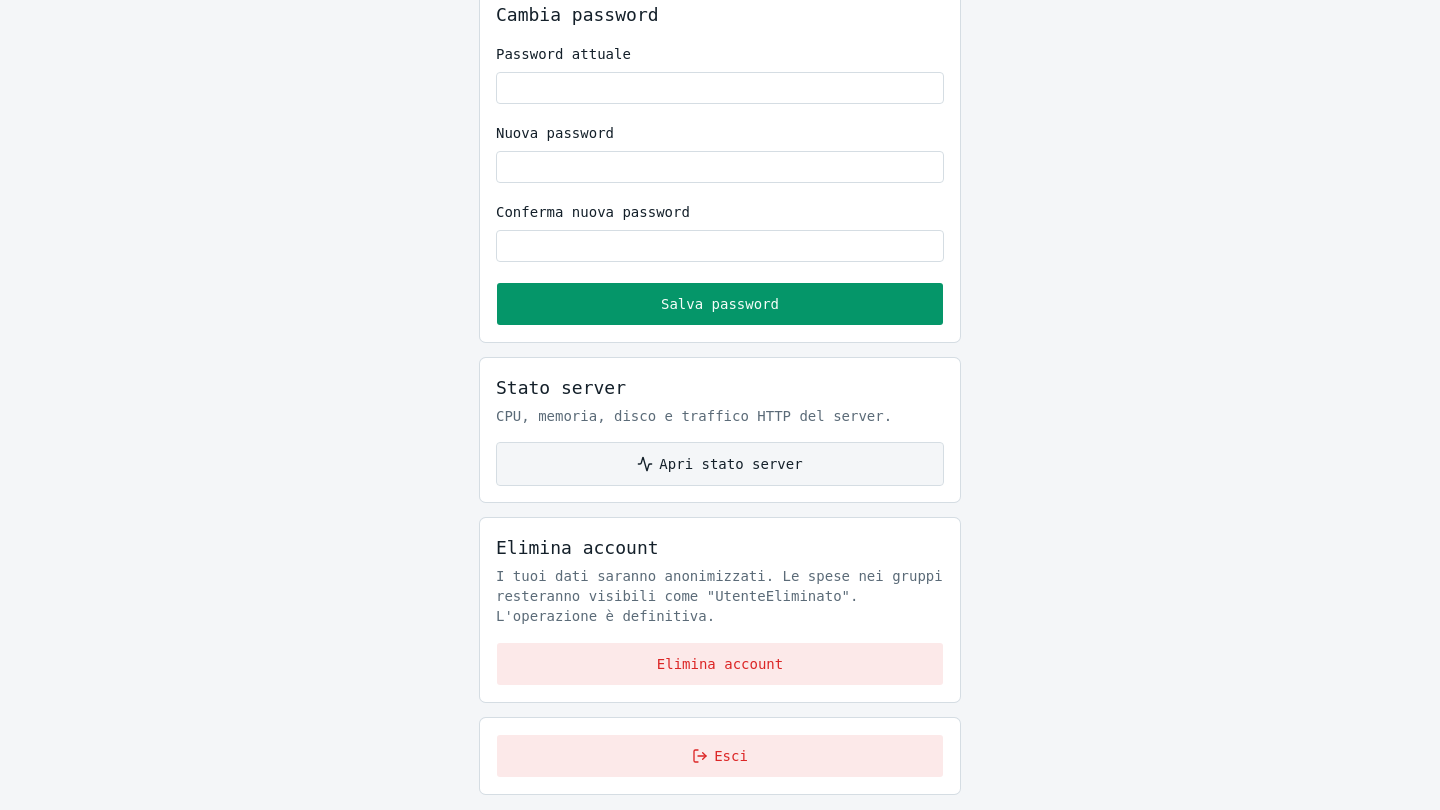
Test: SettingsPage › il bottone Elimina resta disabilitato senza la conferma testuale
(page scrolled)
Click the button "Elimina account" at (720, 664), box [496,642,944,686]
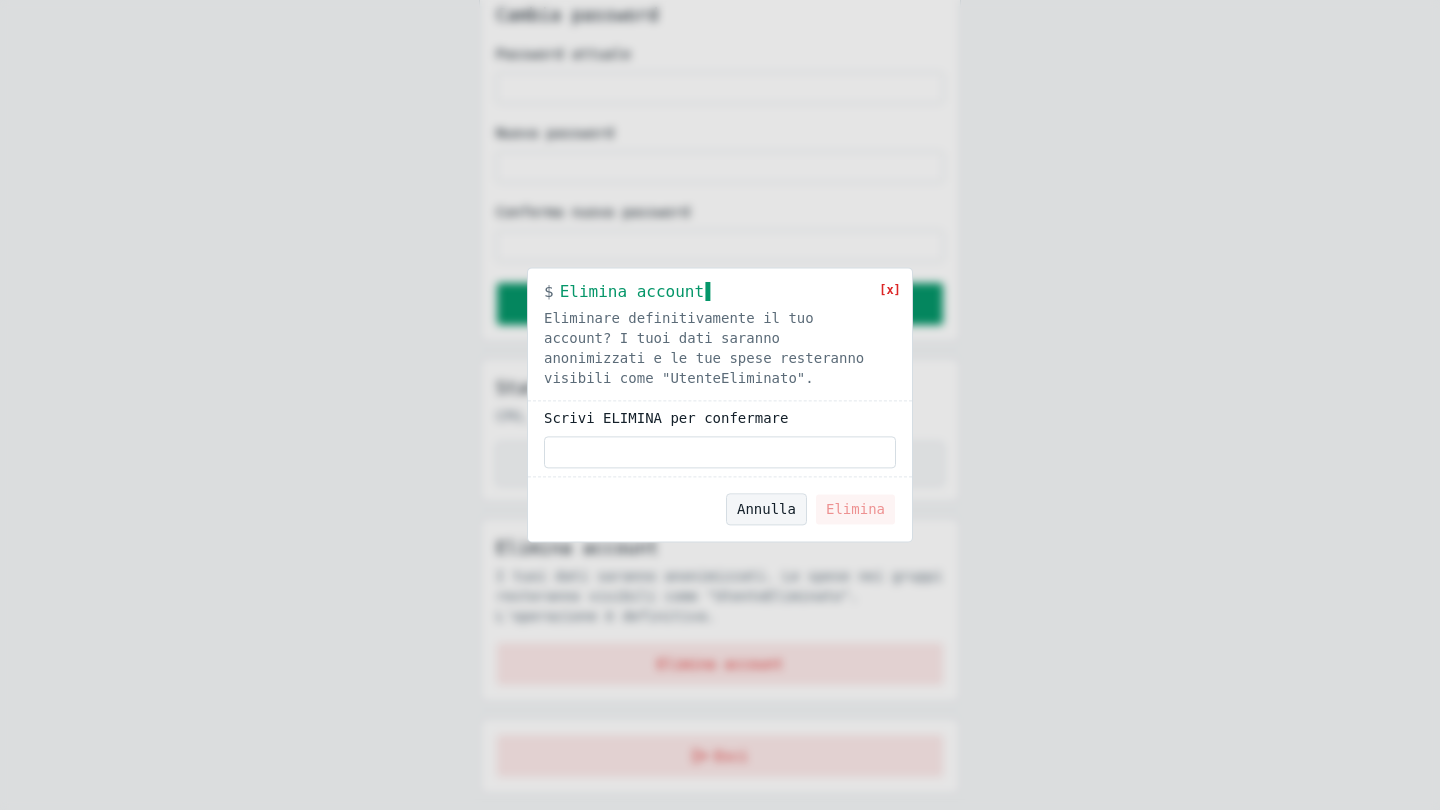
Expected: the button "Elimina" is disabled, [815,494,896,526]
Type "elimina" into the field labelled "Scrivi ELIMINA per confermare" at (720, 453), box [544,437,896,469]
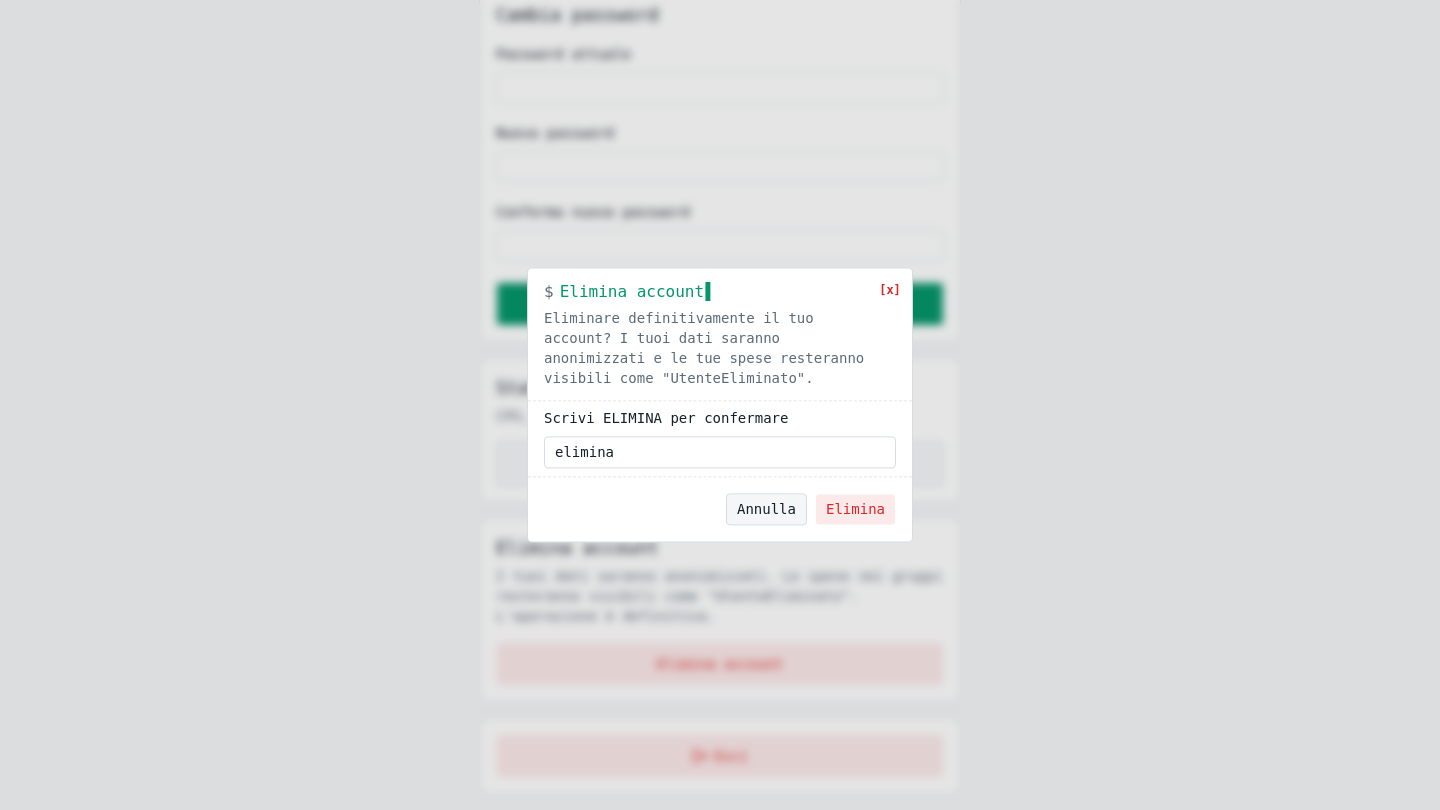
Expected: the button "Elimina" is enabled, [815,494,896,526]
